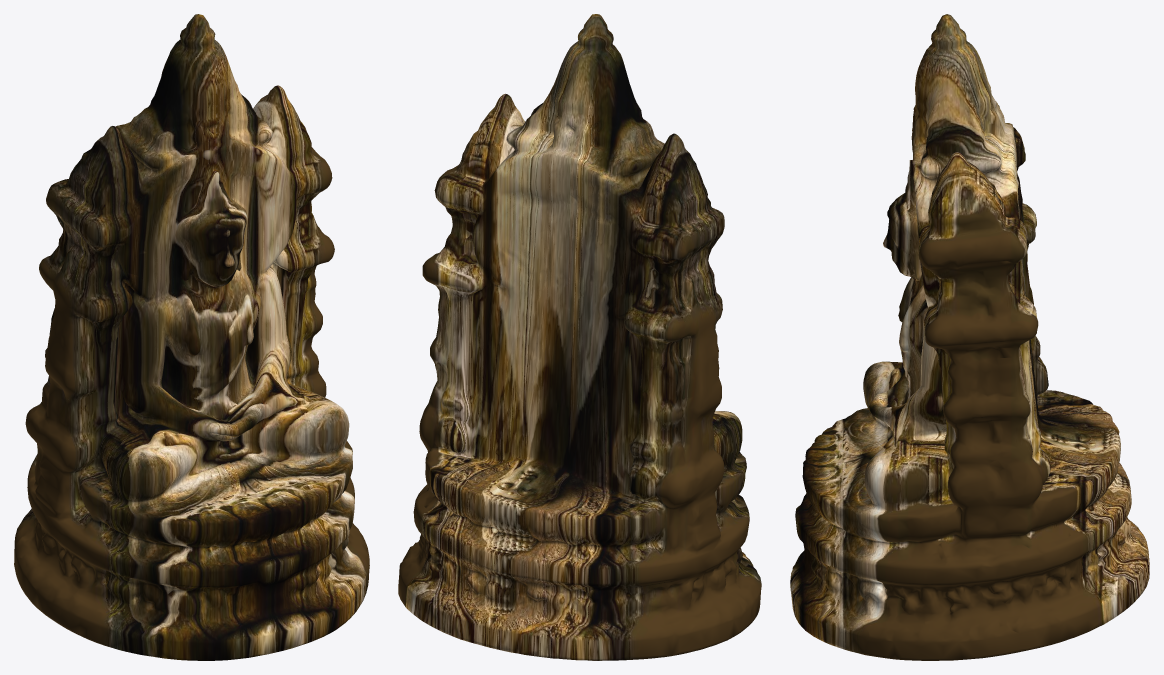
The model's file is buddha_statue.glb.
The picture shows the model from 3 angles, left to right: view 1: azimuth 30°, elevation 25°; view 2: azimuth 150°, elevation 25°; view 3: azimuth 270°, elevation 25°; orthographic projection.
Visible parts, largest first — view 1: geometry_0; view 2: geometry_0; view 3: geometry_0.
Part boxes in pixels (x1,y1,x2,y2): geometry_0: (14, 14, 369, 660); geometry_0: (398, 14, 761, 660); geometry_0: (790, 14, 1149, 660).
Bounding box in the file's own units: 1.11 × 2.01 × 1.12.
Materials: 1 (1 with a texture image).
